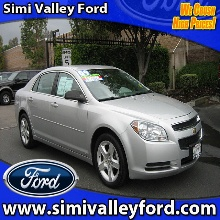no damage: (14, 64, 204, 188)
